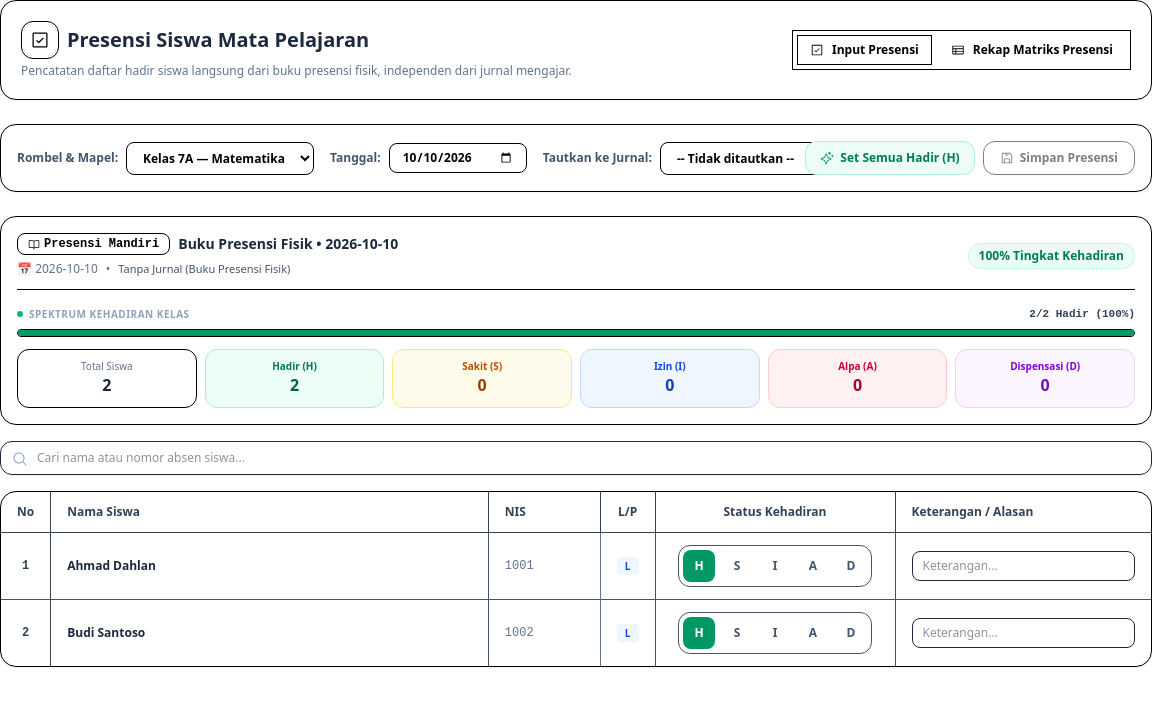
Test: SubjectAttendancePage UX & Guard Implementation › 6. saves attendance before completing tab navigation when user chooses save in modal
The image size is (1152, 720).
Expected: the text "Ahmad Dahlan" is shown, [67,558,156,574]
What coordinates should you click on to do the following:
click the button titled "Sakit (S)" in the row of "Ahmad Dahlan"
I would click on:
 (737, 566)
Its box is [721,550,753,582].
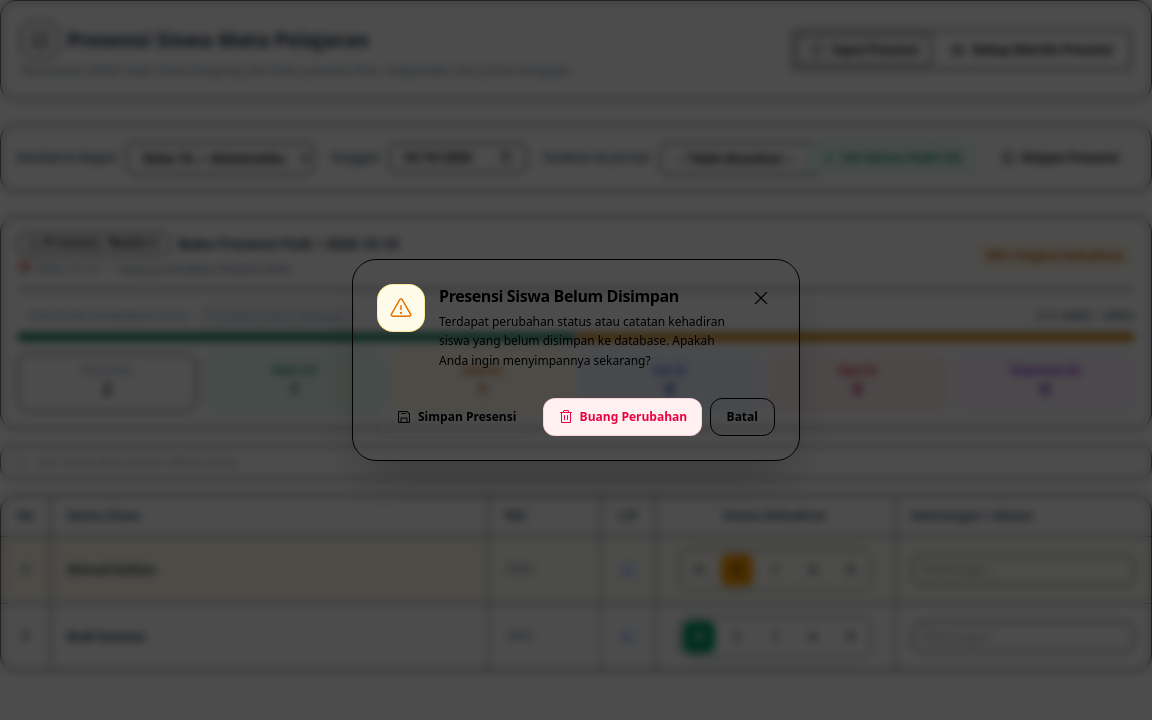
What coordinates should you click on to do the following:
click the button "Simpan Presensi"
I would click on:
 (456, 417)
Its box is [377,398,535,436].
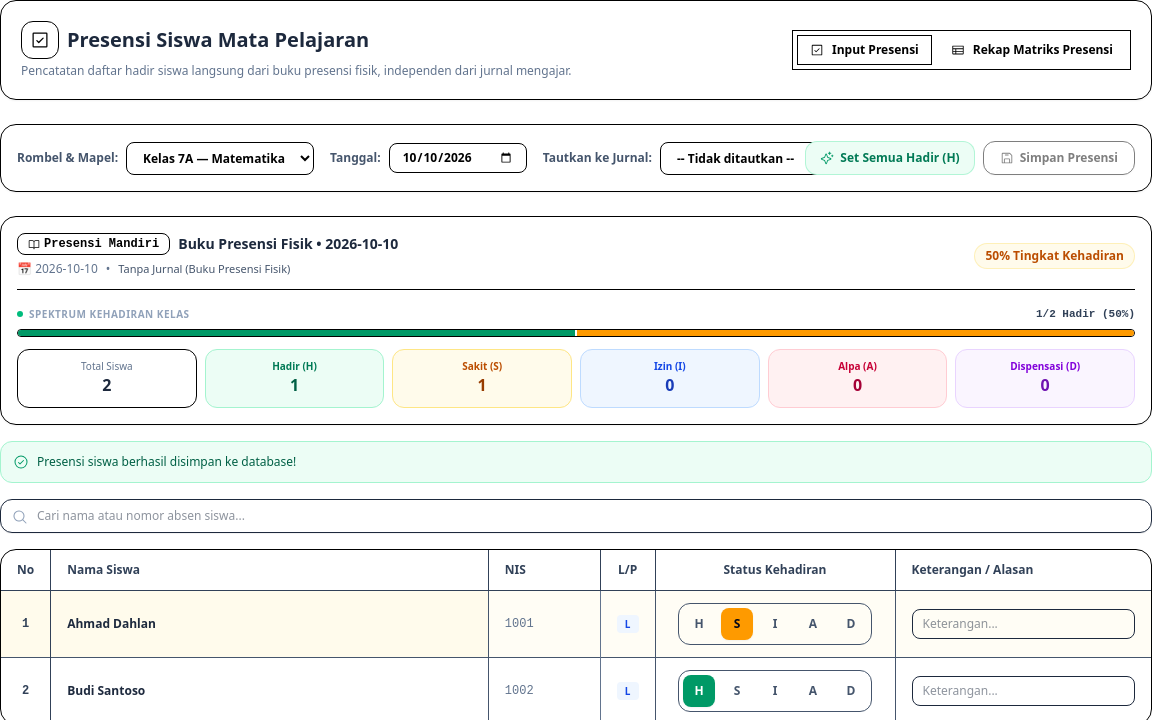
Expected: the dialog is gone
